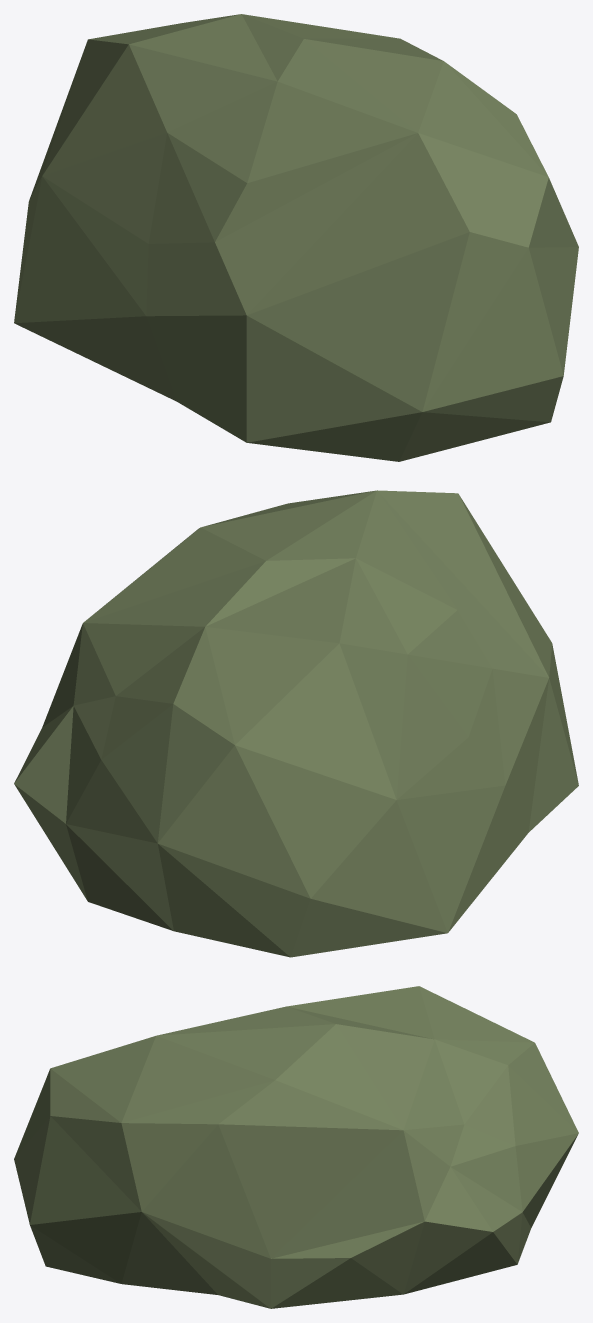
File: Bush_0.fbx
3 renders of one model, top to bottom at view 1: azimuth 30°, elevation 25°; view 2: azimuth 150°, elevation 25°; view 3: azimuth 270°, elevation 25°, orthographic. The views are drawn at different scales.
Visible parts, largest first — view 1: pPlatonic2; view 2: pPlatonic2; view 3: pPlatonic2.
Part boxes in pixels (x1=…): pPlatonic2: x1=14, y1=14, x2=578, y2=461; pPlatonic2: x1=14, y1=490, x2=578, y2=957; pPlatonic2: x1=14, y1=986, x2=578, y2=1308.
Bounding box in the file's own units: 3.66 × 2.24 × 5.32.
